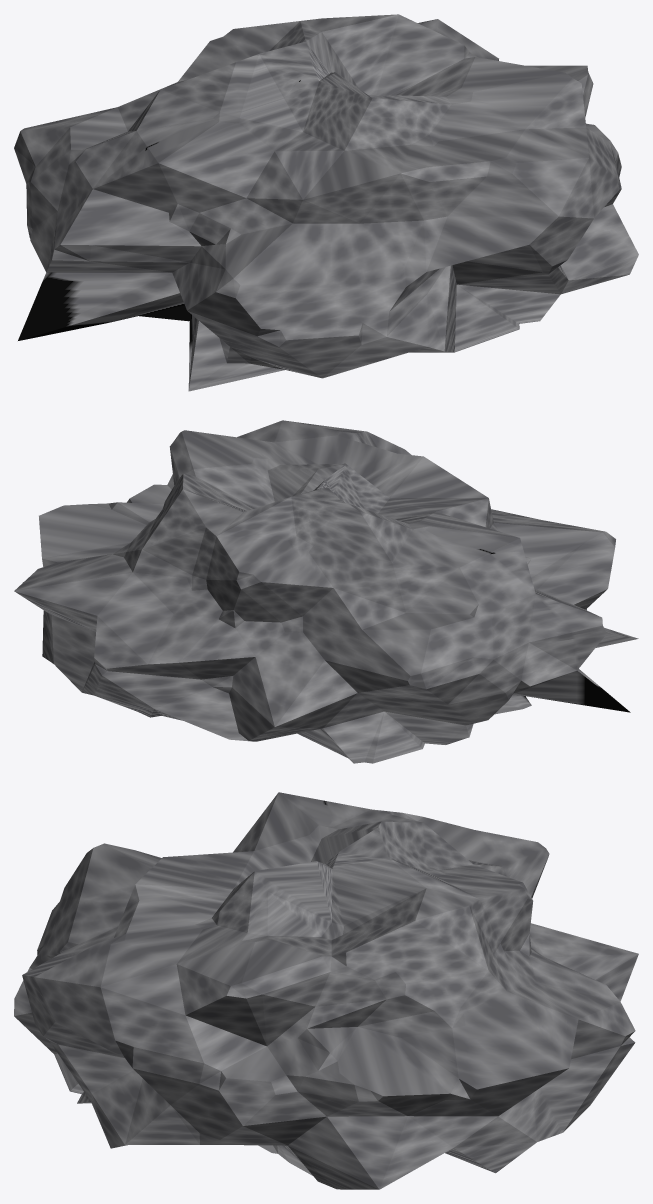
File: 암벽조각_02.fbx
3 views of the same model, one above another, from view 1: azimuth 30°, elevation 25°; view 2: azimuth 150°, elevation 25°; view 3: azimuth 270°, elevation 25° (orthographic). The views are drawn at different scales.
Parts seen in each view (by area): view 1: 암벽조각_02; view 2: 암벽조각_02; view 3: 암벽조각_02.
Boxes of the visible parts, <box> form: 암벽조각_02: <box>14,14,638,391</box>; 암벽조각_02: <box>14,420,638,763</box>; 암벽조각_02: <box>14,792,638,1189</box>.
Bounding box in the file's own units: 9030 × 2684 × 7390.
1 material, 1 textured.
